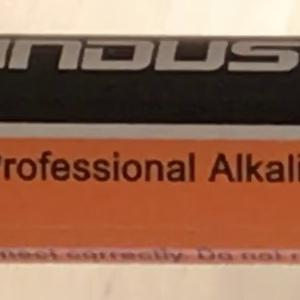ALK: (198, 143, 253, 192)
